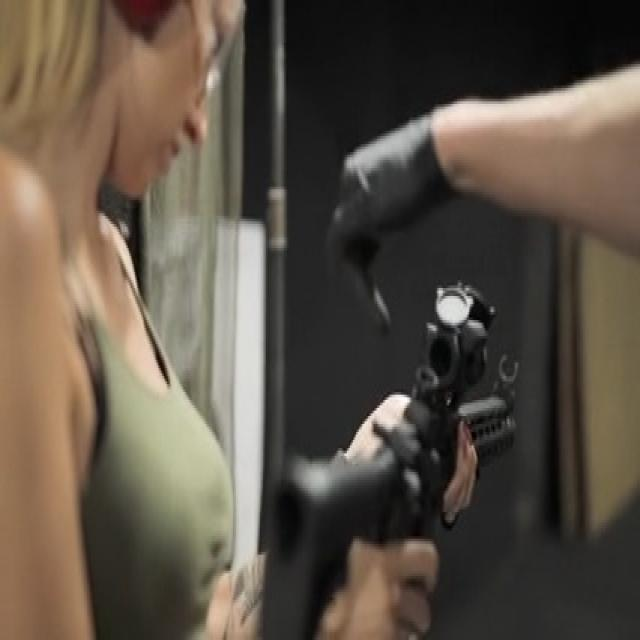Gun_Holder: (214, 250, 604, 624)
Person: (0, 0, 436, 640)
